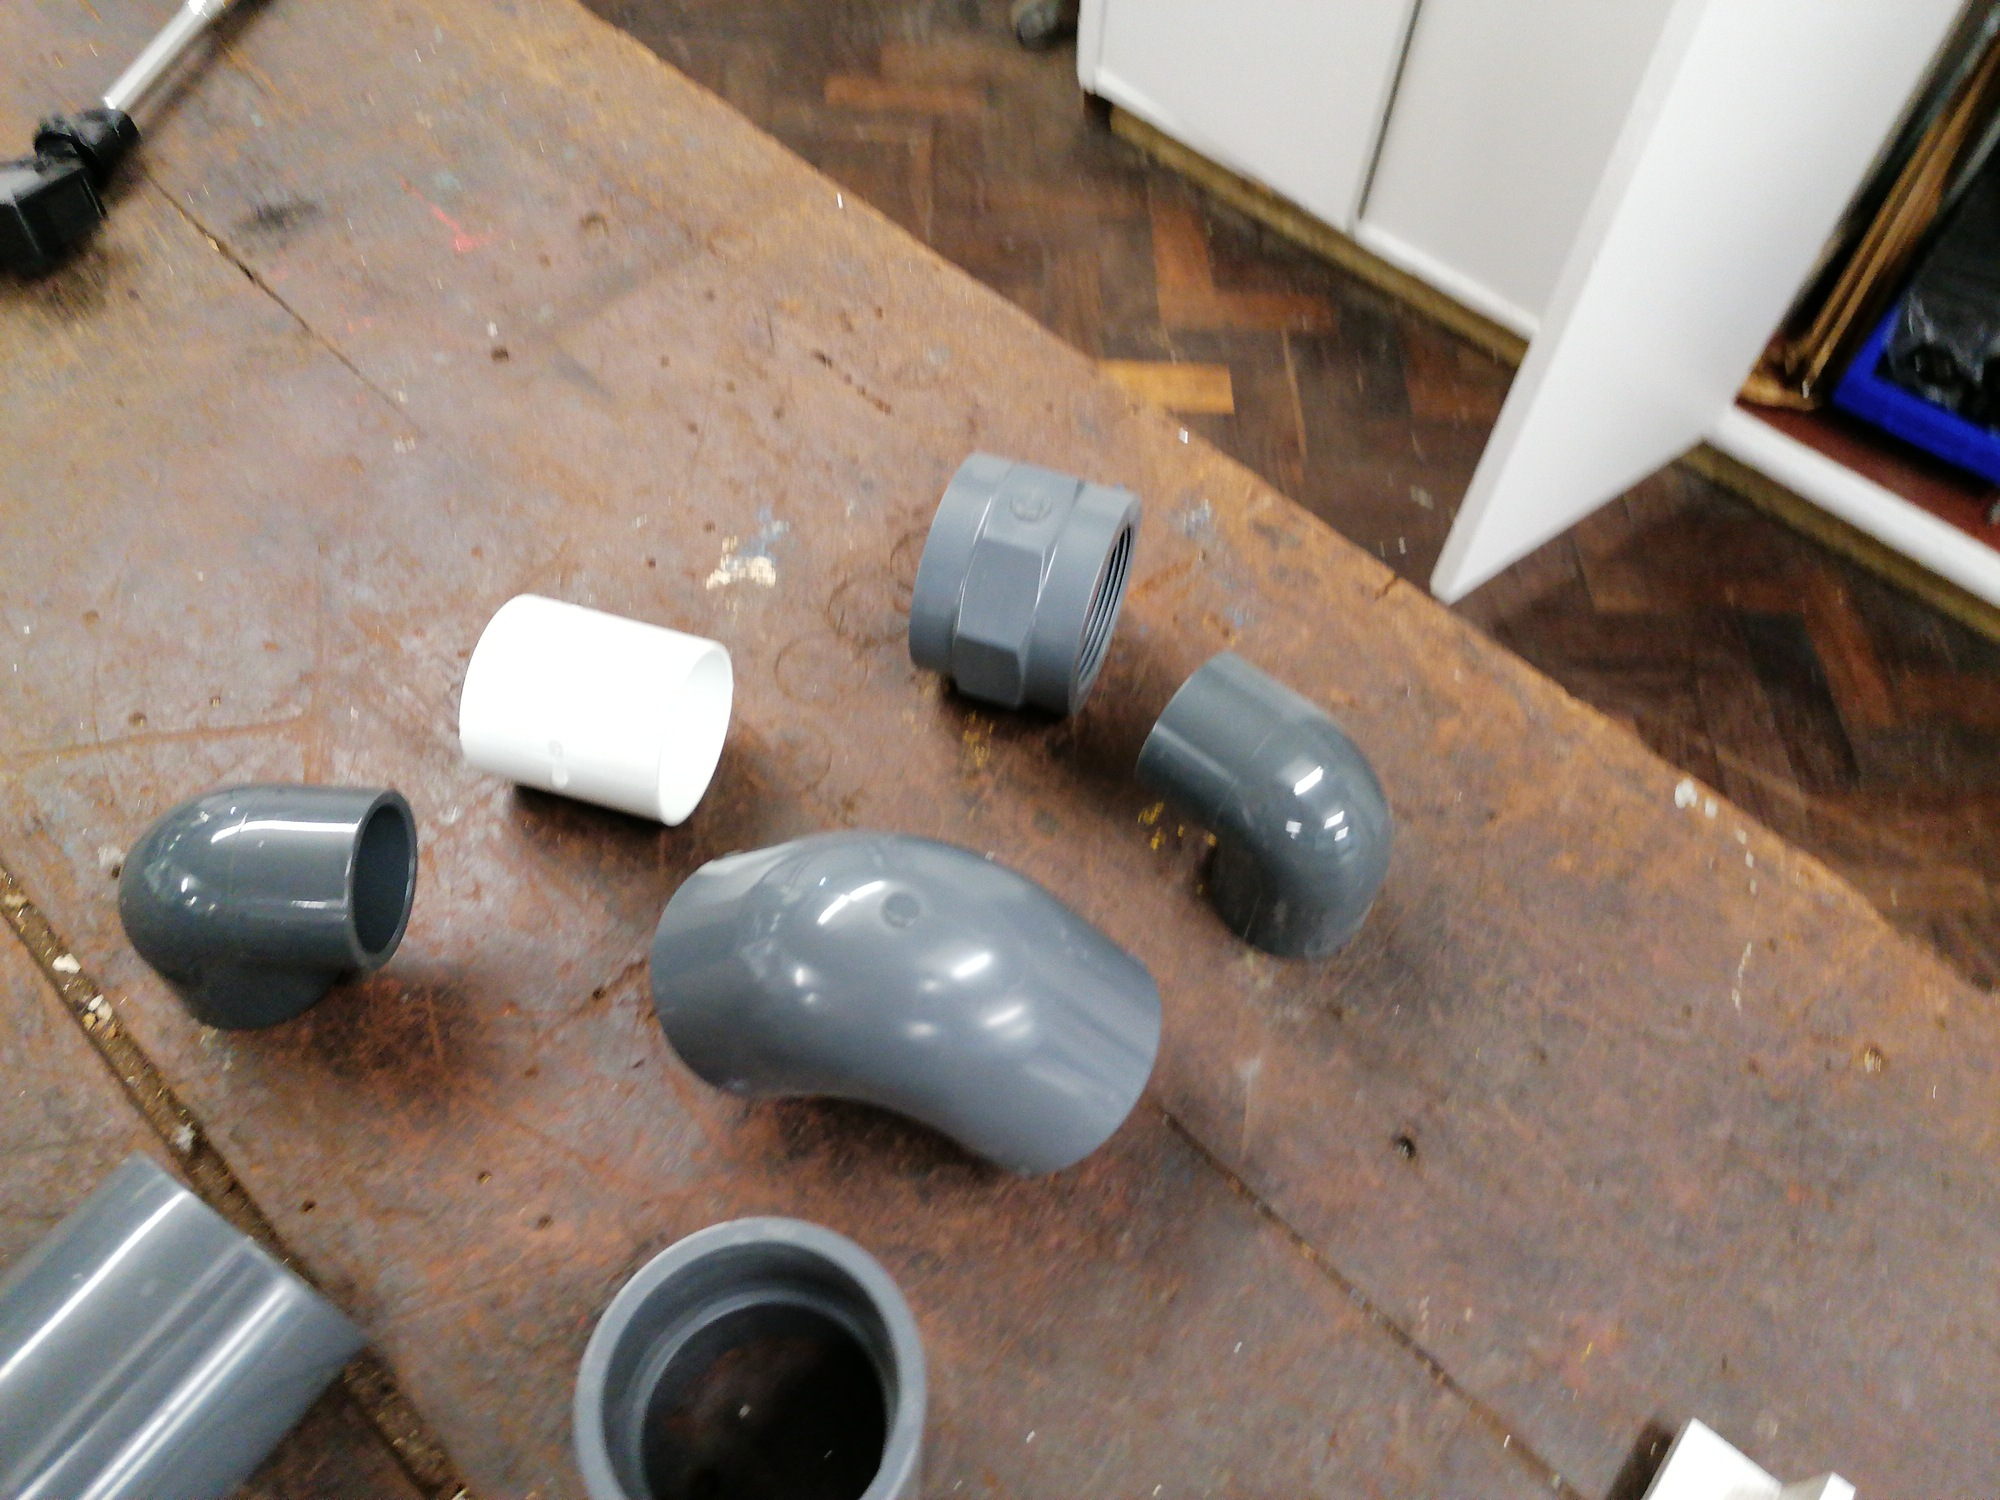nut: (906, 446, 1146, 722)
pipe: (647, 830, 1164, 1190), (3, 1149, 378, 1500), (565, 1210, 934, 1498), (1134, 646, 1398, 966), (117, 778, 417, 1034), (457, 589, 732, 826)
